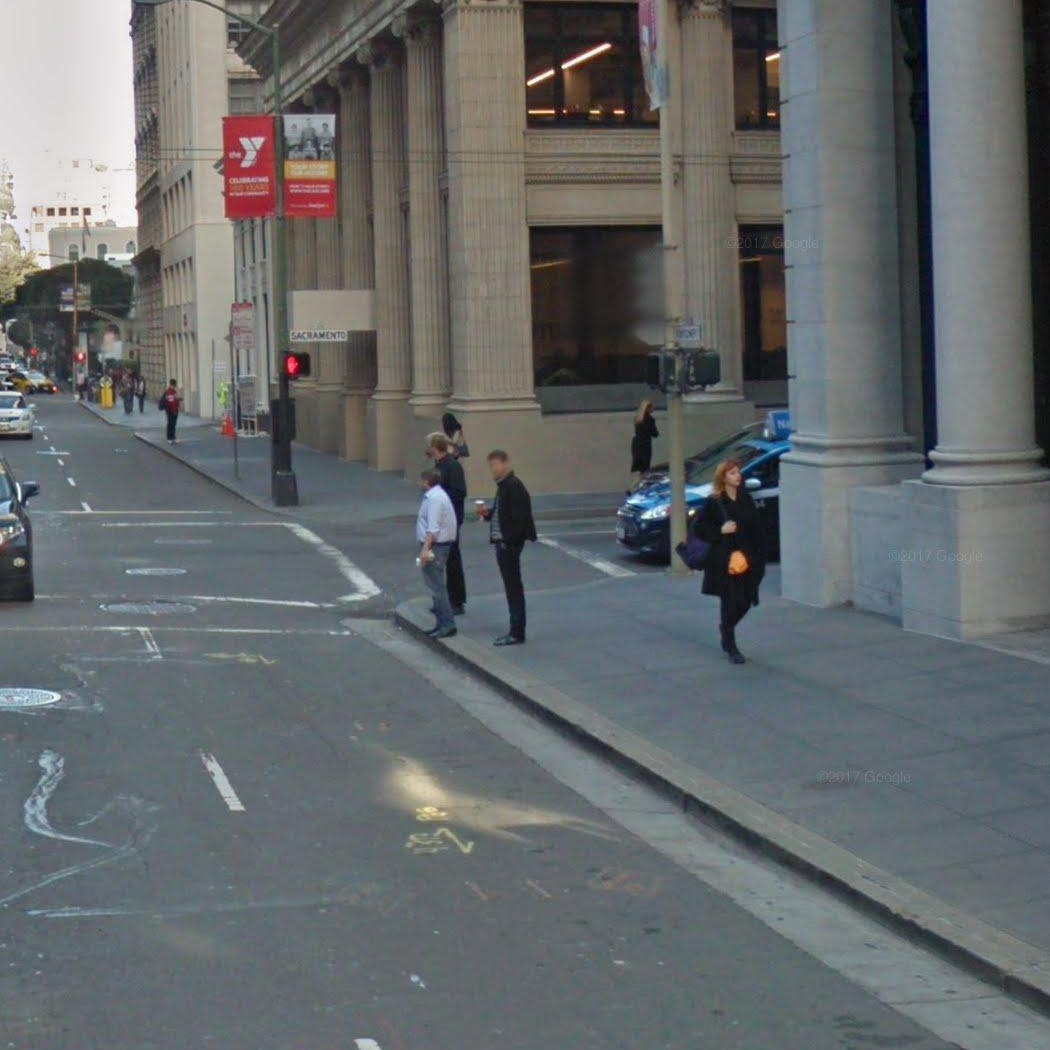No Parking: (232, 326, 255, 349)
